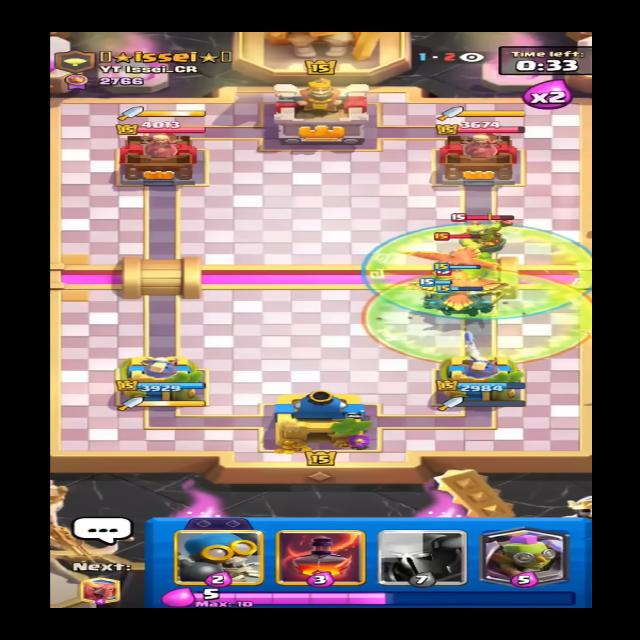Goblincurse: (363, 268, 601, 372)
Goblindemolisher: (447, 209, 530, 252)
Pheonix: (397, 232, 503, 277)
